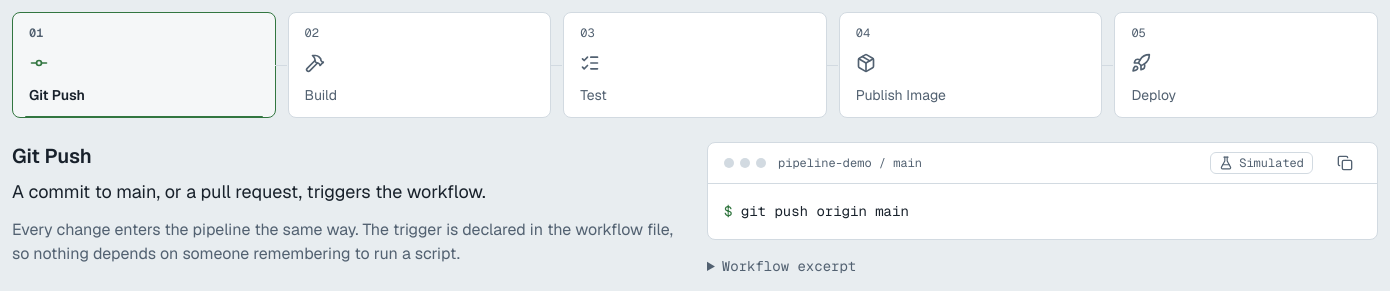
PipelinePreview › selects a stage on click and shows its command
Click the tab "04 Publish Image".
click(901, 95)  # box [839,12,1102,118]
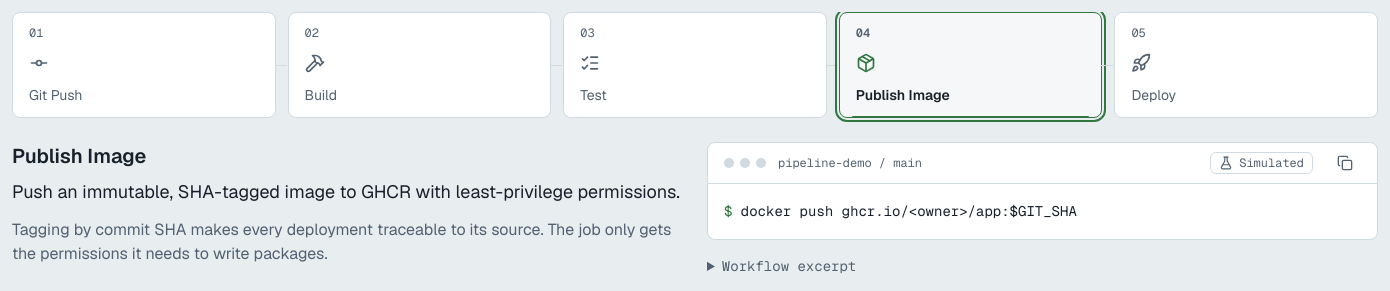
Expected: the panel shows "docker push ghcr.io/<owner>/app:$GIT_SHA", [741,202,1077,220]
